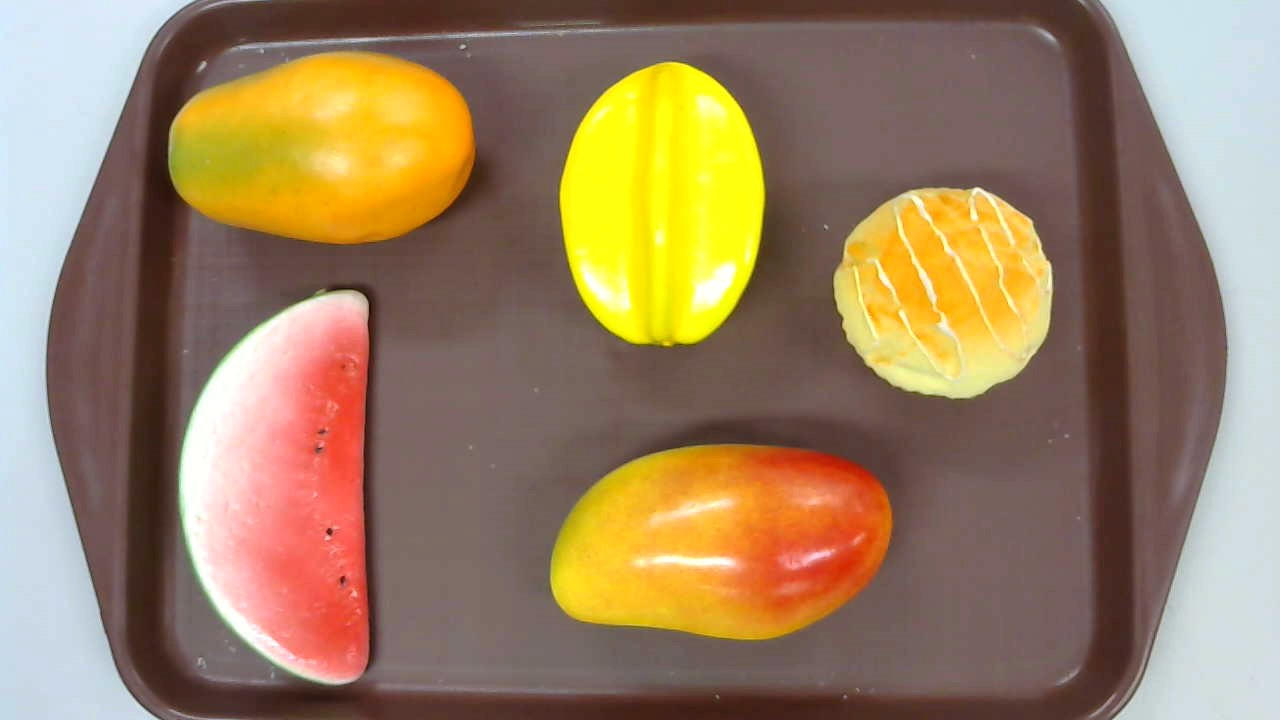cupcake: (831, 185, 1053, 401)
papya: (168, 49, 475, 244)
red mango: (549, 443, 892, 641)
star fruit: (559, 62, 764, 348)
water melon: (177, 288, 370, 686)
